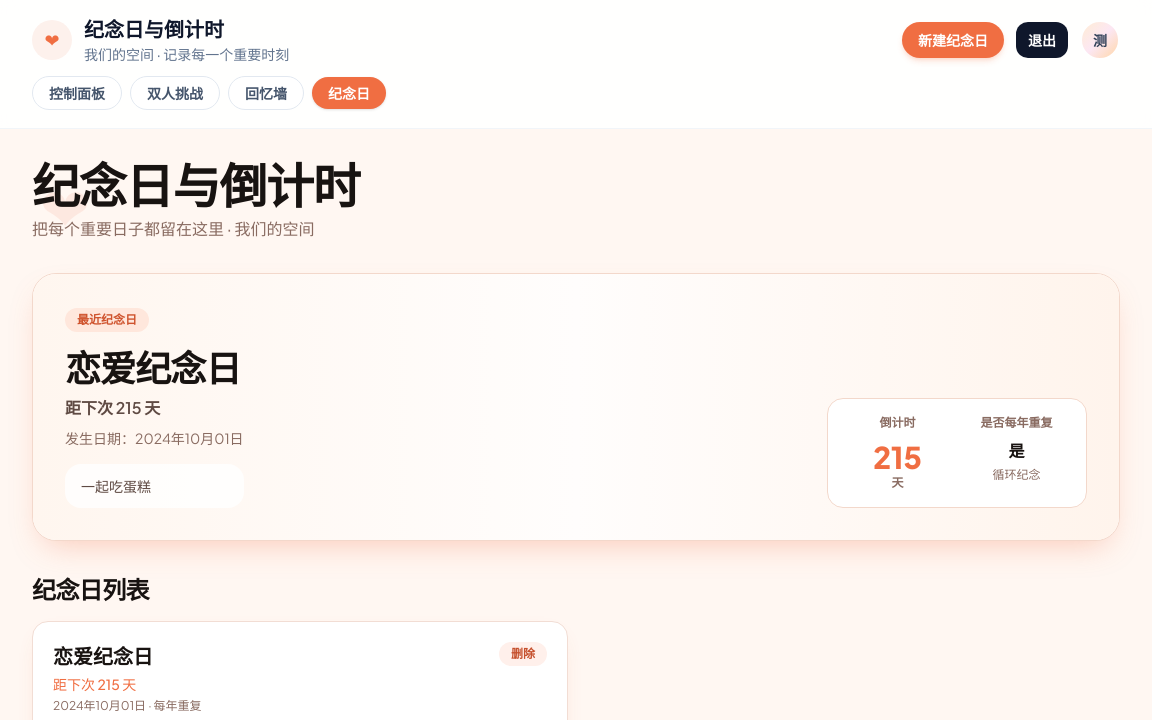
it: AnniversariesPage › 删除失败时展示错误提示
This screenshot has width=1152, height=720.
Expected: the button "新建纪念日" is enabled, [902, 22, 1004, 58]
Click the button named "删除-恋爱纪念日": [523, 654] box [499, 642, 547, 666]
(page scrolled)
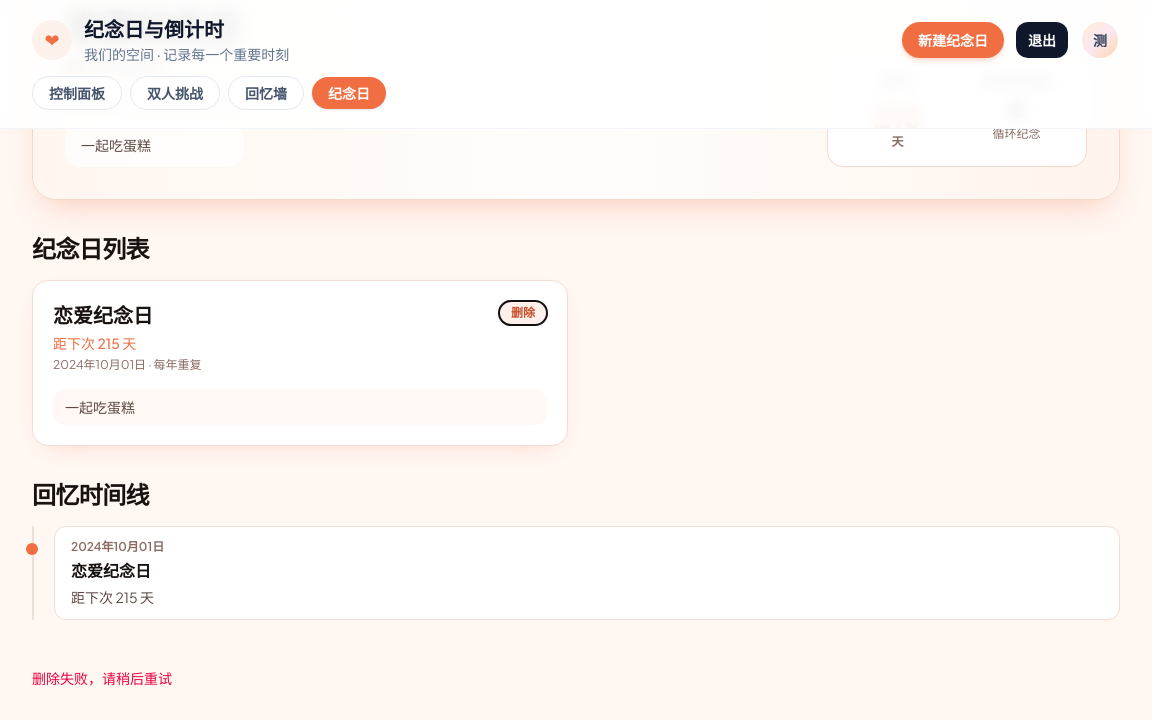
Now the text "删除失败，请稍后重试" is shown, box [32, 669, 172, 687]
